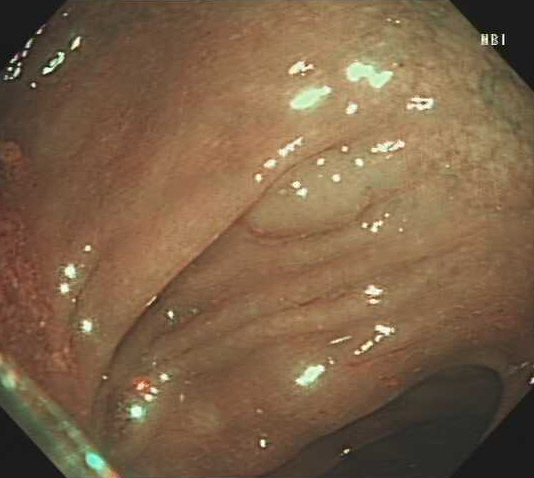others: (243, 138, 412, 238)
